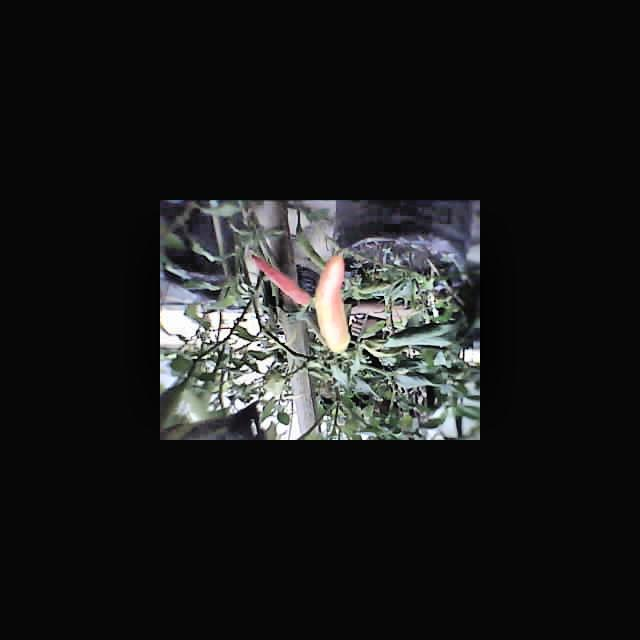Cabai: (316, 258, 353, 346), (256, 258, 311, 305)
